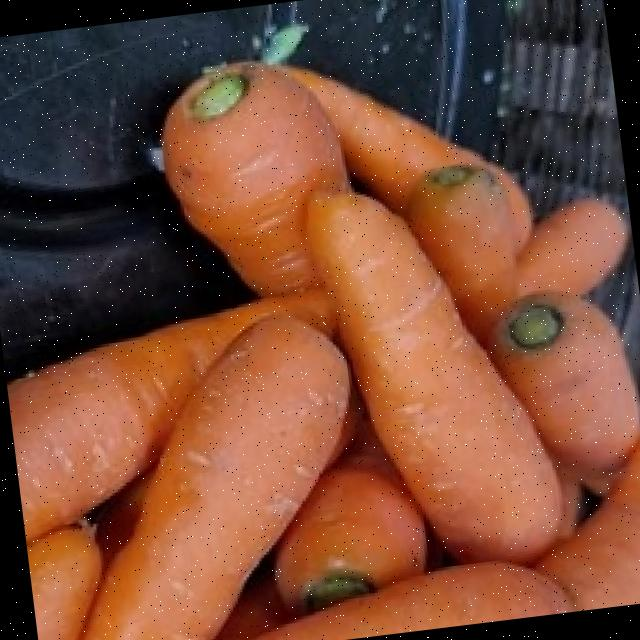carrot: (11, 58, 640, 640)
